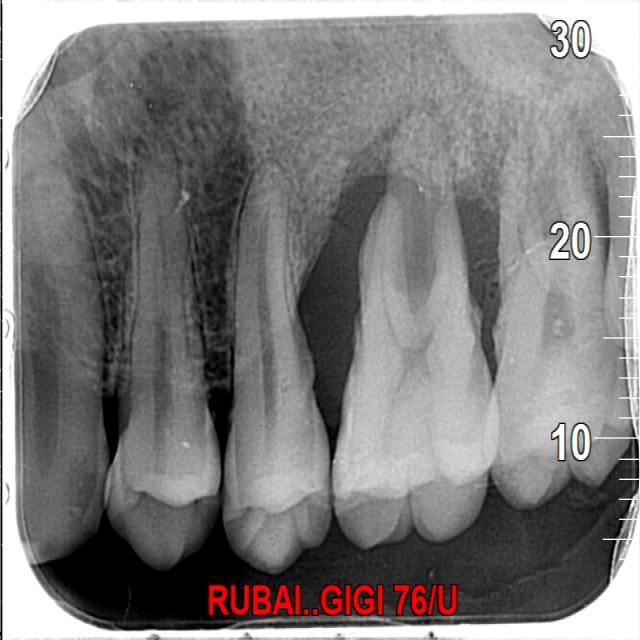individual-tooth-8tto: (488, 130, 639, 508), (331, 183, 486, 551), (103, 121, 214, 570), (219, 163, 322, 568)
